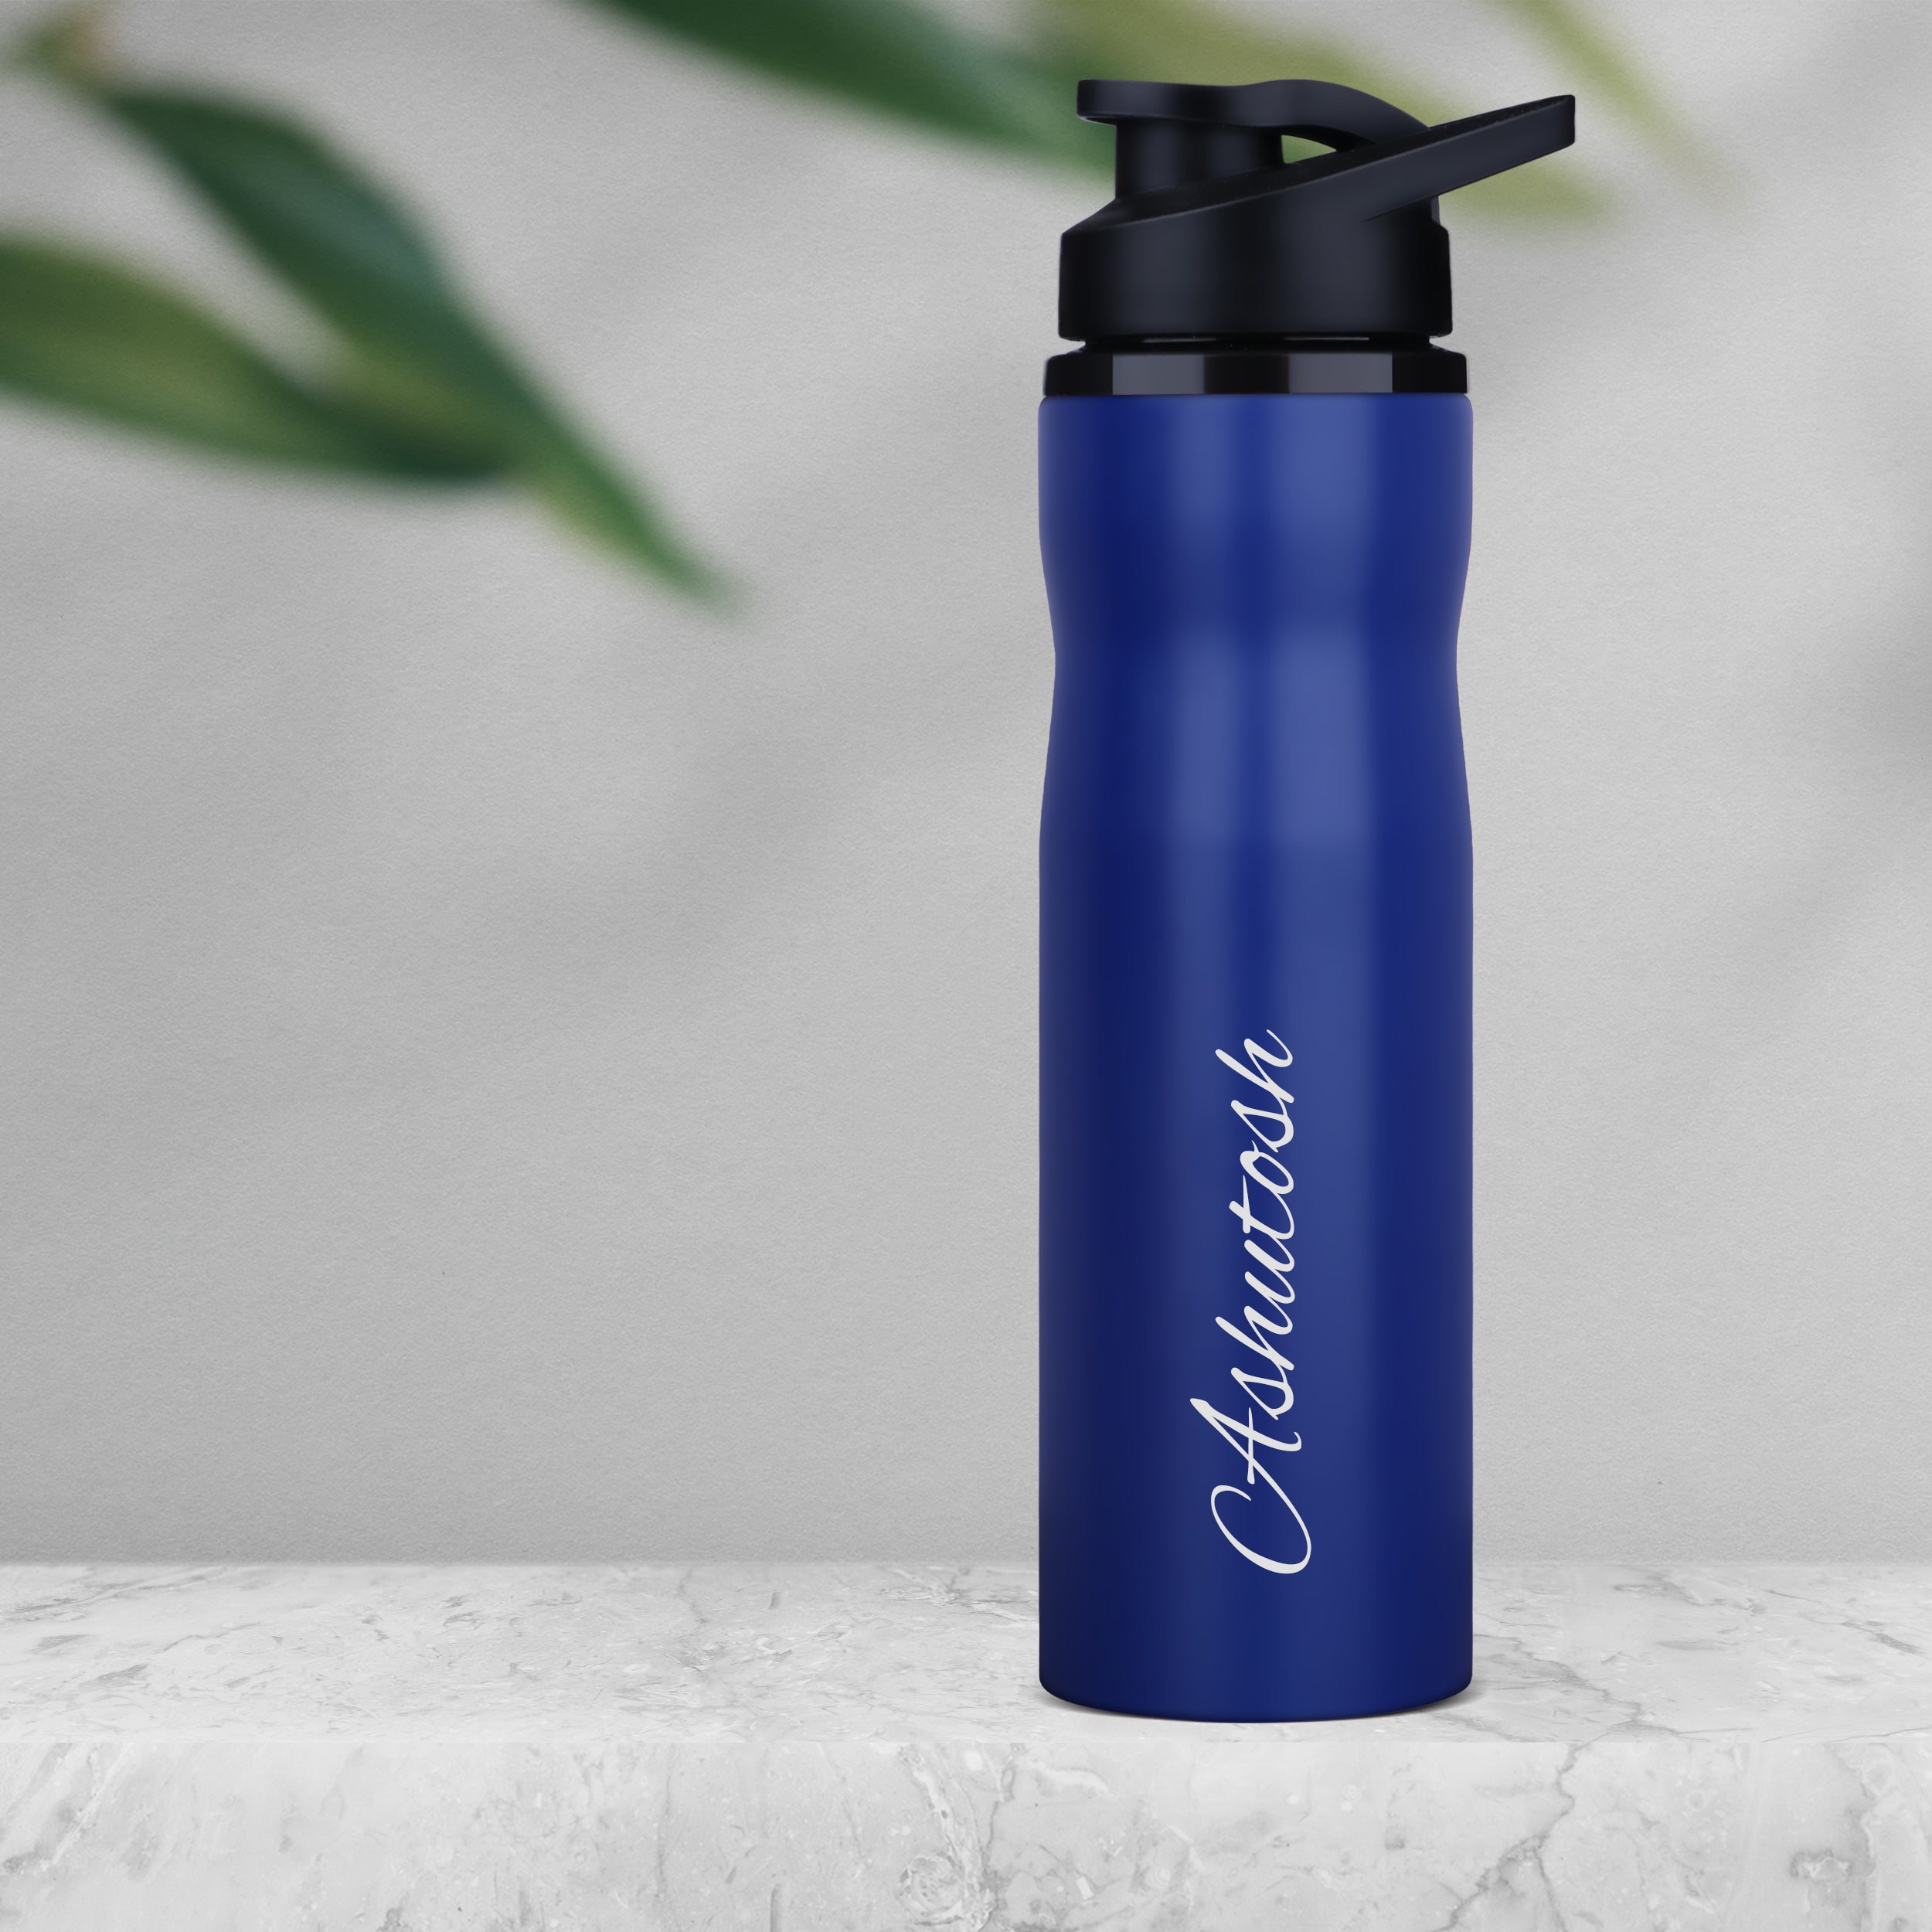bottle: (983, 24, 1556, 1778)
